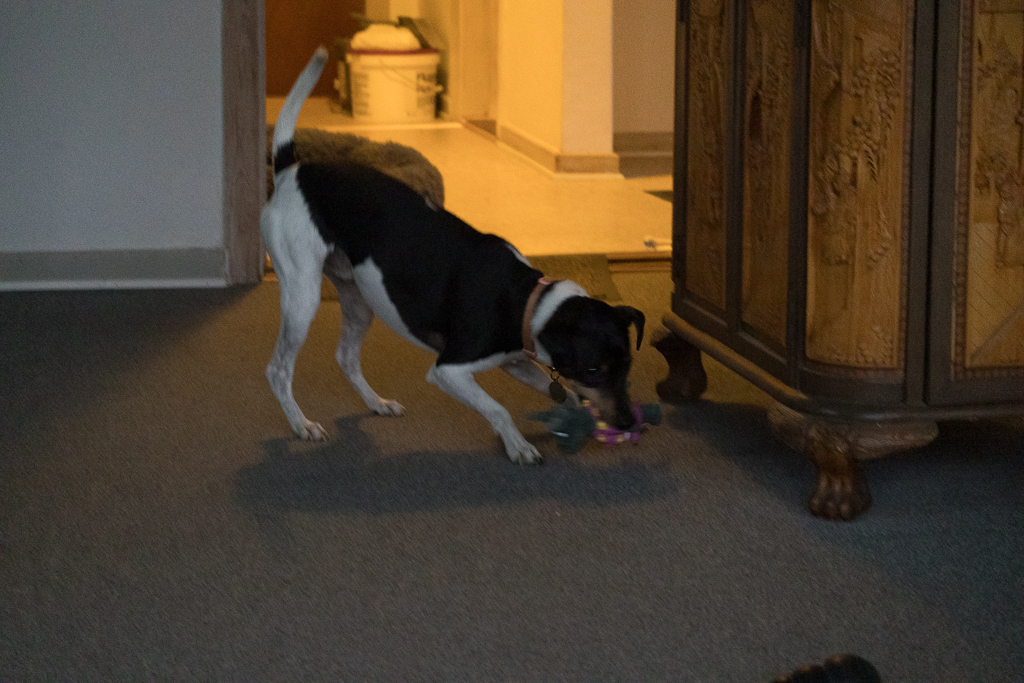Dog: (245, 30, 667, 486)
Humanoid: (519, 386, 663, 458)
